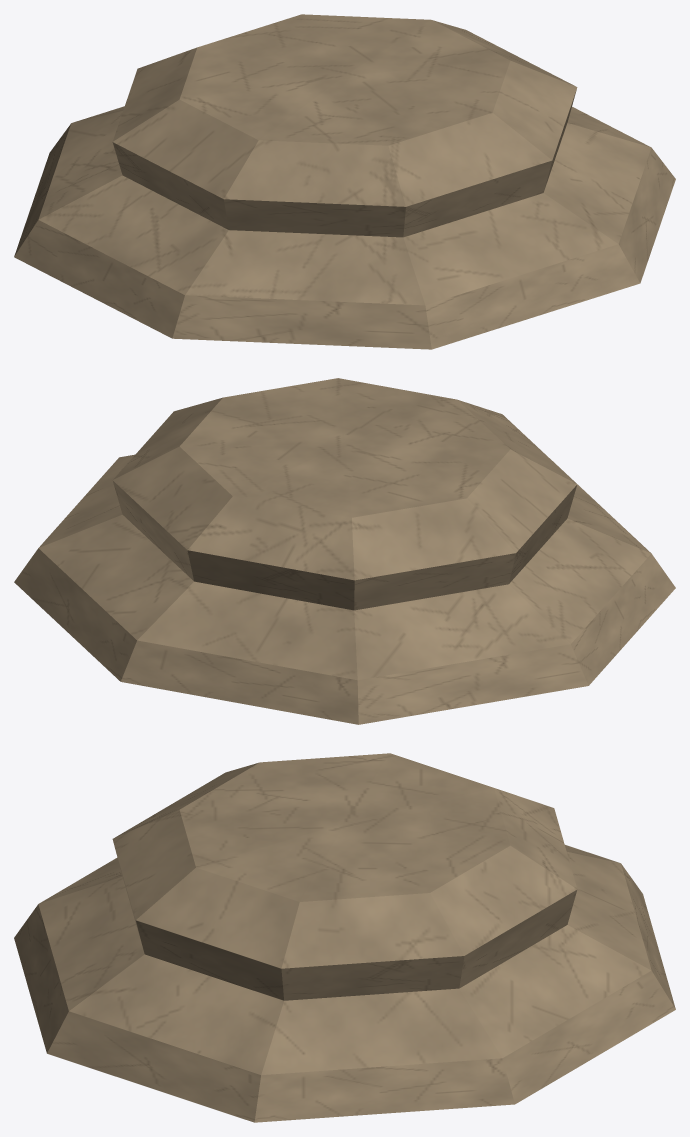
The model's file is prop_rock_a.obj.
The picture shows the model from 3 angles, top to bottom: view 1: azimuth 30°, elevation 25°; view 2: azimuth 150°, elevation 25°; view 3: azimuth 270°, elevation 25°; orthographic projection. The views are drawn at different scales.
Visible parts, largest first — view 1: prop_rock_a; view 2: prop_rock_a; view 3: prop_rock_a.
Boxes of the visible parts, box(x1,y1,x2,y2) form: prop_rock_a: box(14, 14, 675, 349); prop_rock_a: box(14, 378, 675, 724); prop_rock_a: box(14, 753, 675, 1122).
Size of the model in its own units: 3.4 by 1.19 by 3.2.
1 material, 1 textured.
